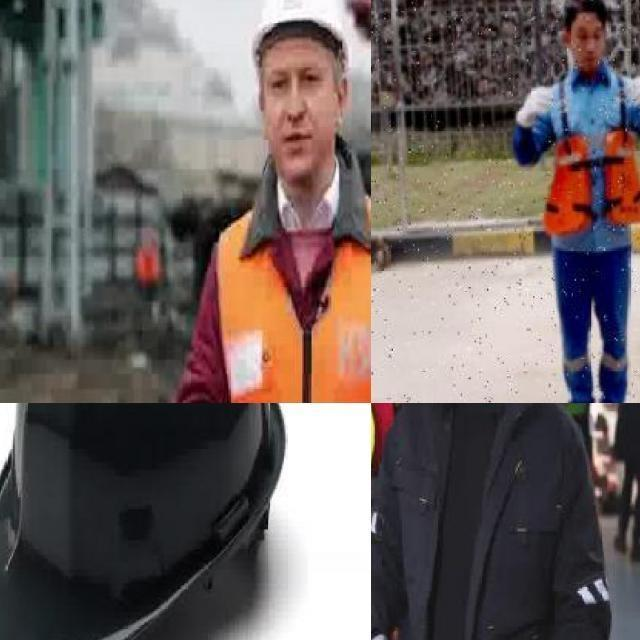apron: (514, 84, 558, 132), (624, 71, 640, 119)
